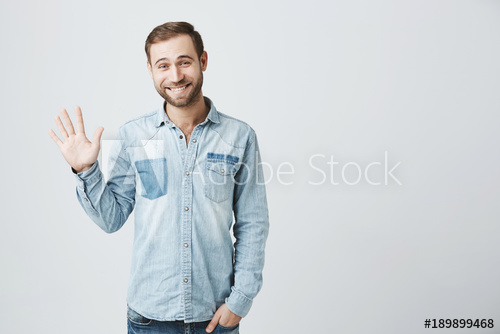open_hand: (40, 103, 116, 176)
